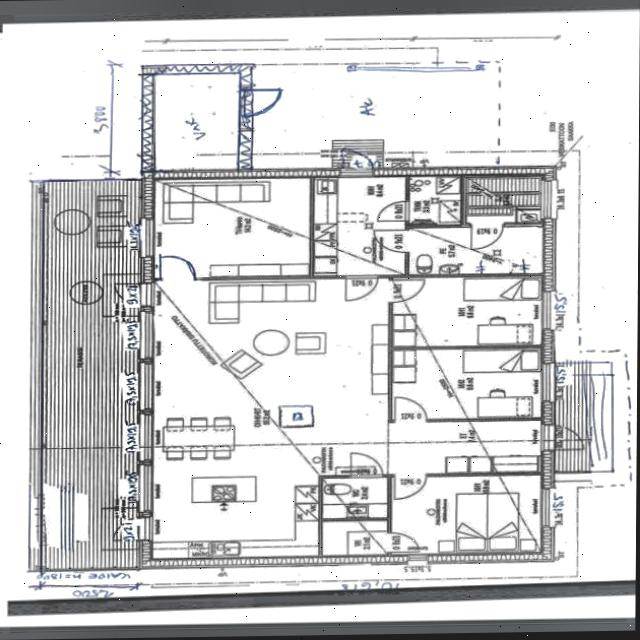room: (154, 177, 311, 277), (391, 474, 542, 553), (391, 347, 542, 419), (392, 275, 543, 346), (314, 175, 406, 276), (155, 73, 239, 169), (409, 225, 544, 274), (463, 175, 542, 224), (323, 477, 388, 518), (409, 175, 461, 224), (322, 519, 388, 554)
